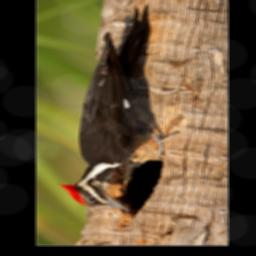Woodpecker: (57, 4, 180, 211)
